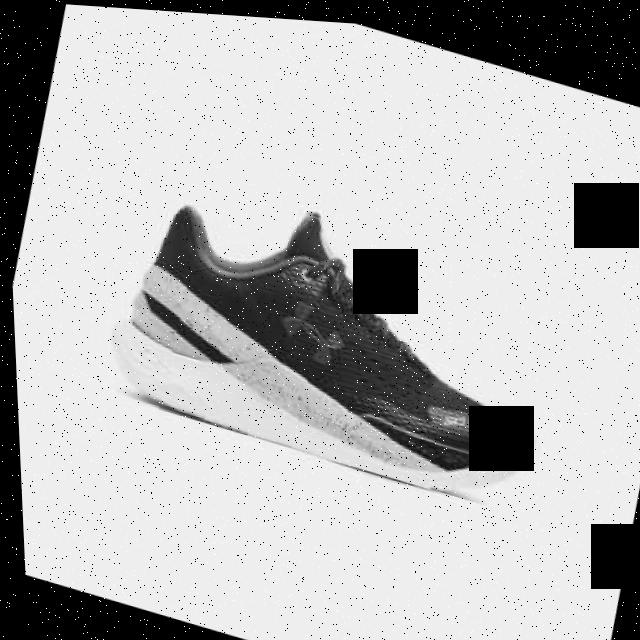shoe: (88, 157, 571, 512)
